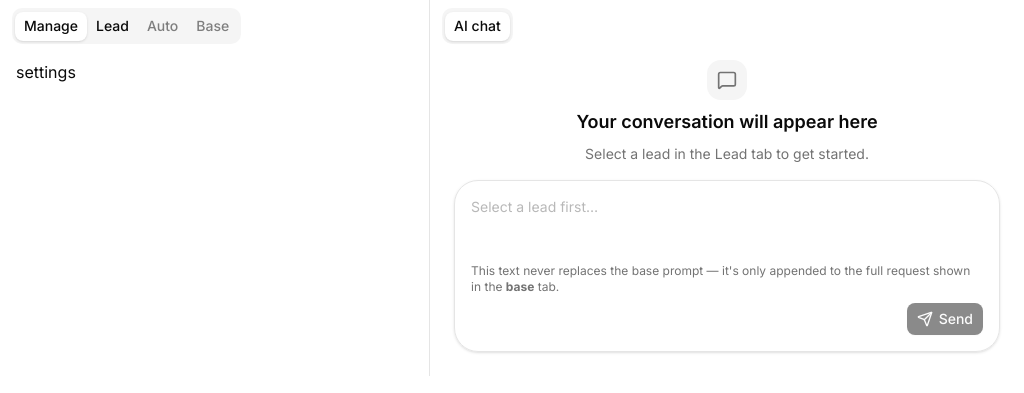
Test: AiPromptWorkspace › Send uses Auto Pick report body when Your Pick is unset
Click the tab "Lead" at (112, 26), box [87, 12, 138, 40]
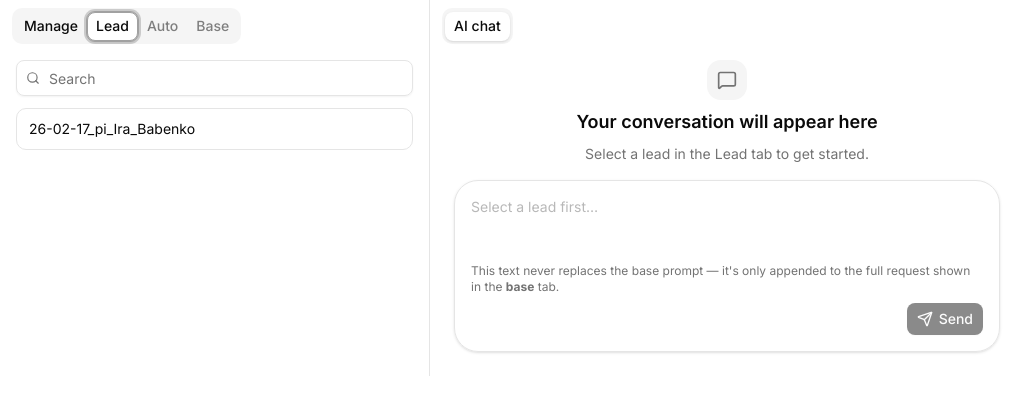
Click the button "26-02-17_pi_Ira_Babenko" at (112, 128), box [16, 108, 413, 150]
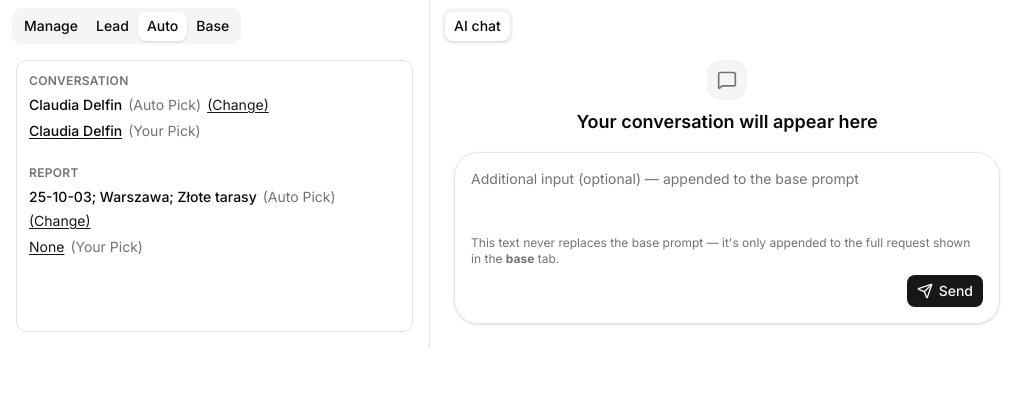
Type "extra text" into the text box with placeholder "Additional input (optional) — appended to the base prompt" at (727, 199), box [471, 169, 983, 229]
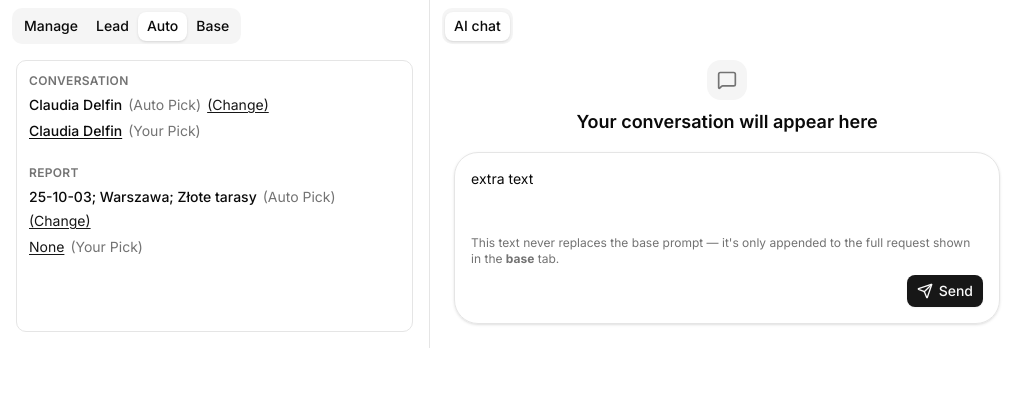
Click the button "Send" at (945, 291), box [907, 275, 983, 307]
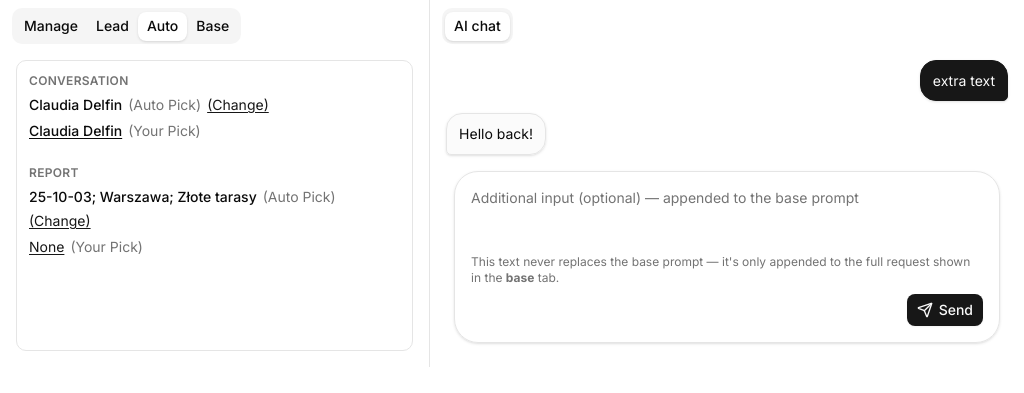
Expected: the text "Hello back!" is shown, [446, 113, 546, 155]
